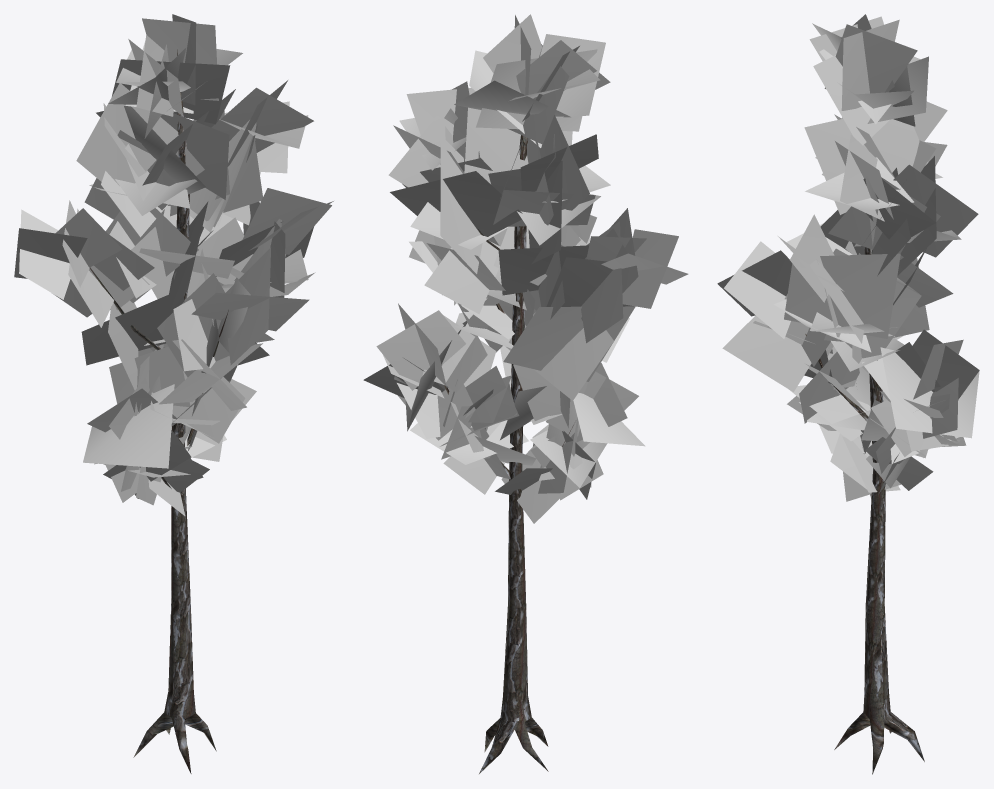
Rendered from Birch_01.fbx.
The picture shows the model from 3 angles, left to right: view 1: azimuth 30°, elevation 25°; view 2: azimuth 150°, elevation 25°; view 3: azimuth 270°, elevation 25°; orthographic projection.
Parts seen in each view (by area): view 1: birch_01; view 2: birch_01; view 3: birch_01.
Part boxes in pixels (<box>): birch_01: <box>14,14,333,773</box>; birch_01: <box>363,14,688,773</box>; birch_01: <box>717,14,979,774</box>.
Bounding box in the file's own units: 9.89 × 24.23 × 7.85.
